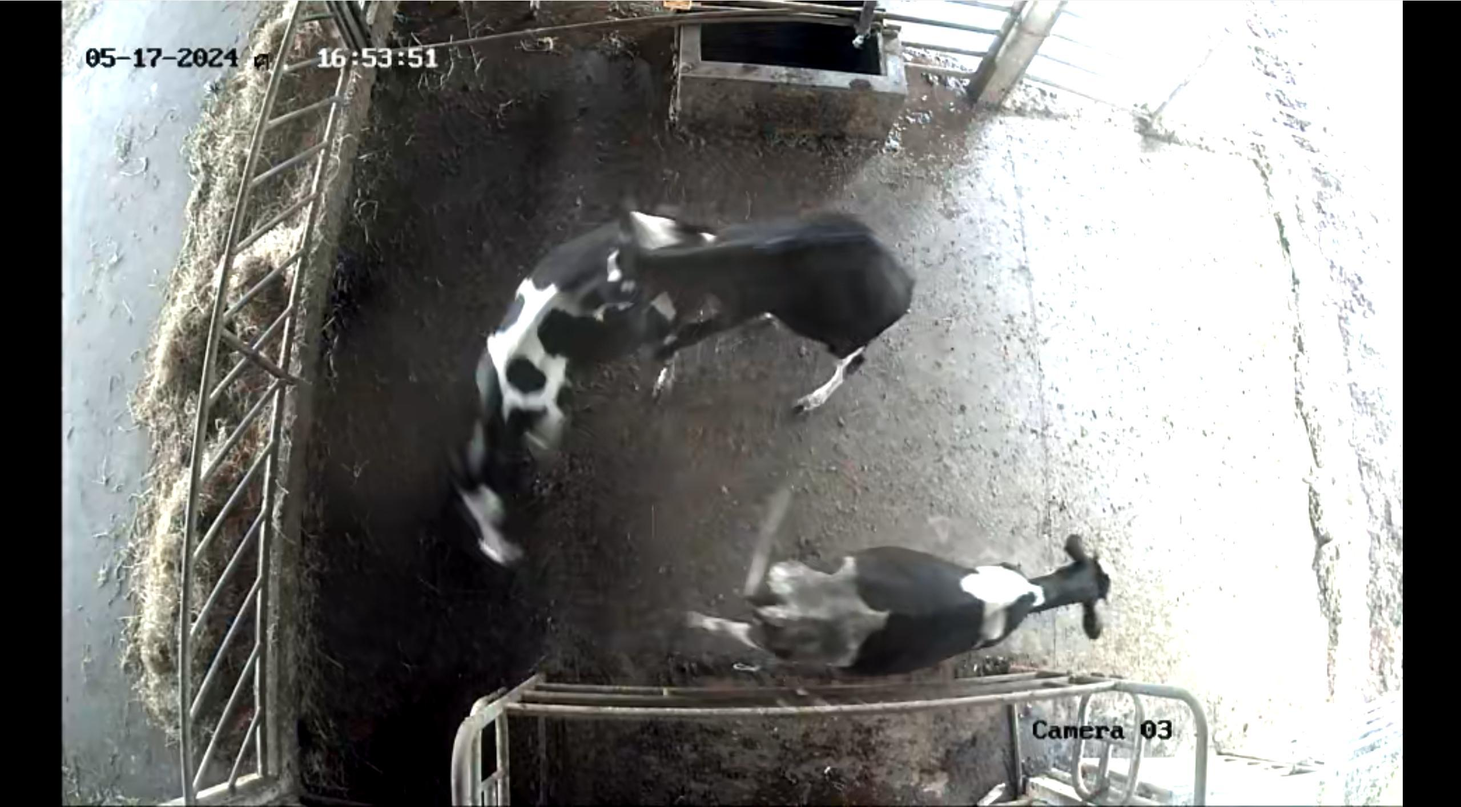ride: (587, 192, 927, 429)
stand: (437, 204, 689, 592), (734, 497, 1135, 683)
